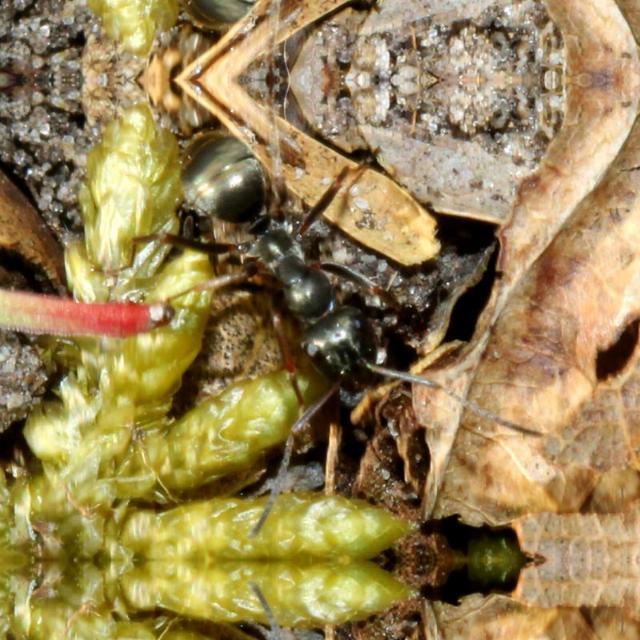Formica: (162, 160, 462, 400)
